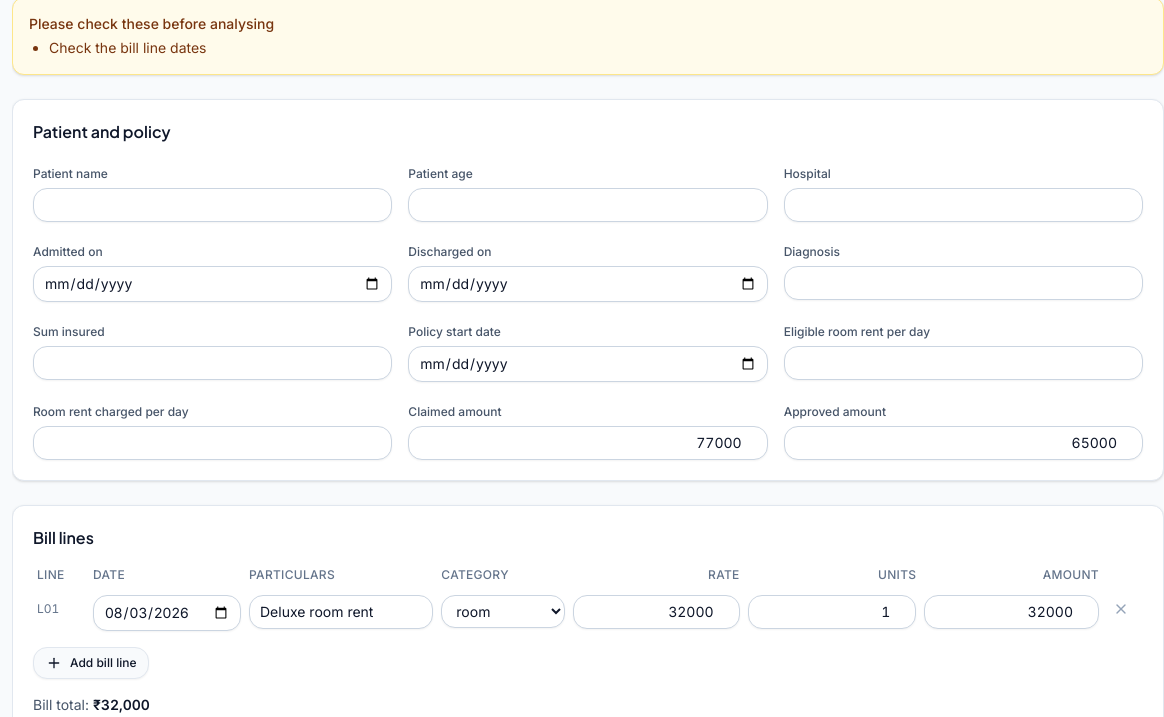
Scenario: CaseConfirmForm › recomputes the totals when an amount is edited
Check: the text with test id "bill-total" reads "₹32,000", box [93,696,150,713]
Replace the text in the number field named "Line 1 amount" with "45000.5". click: (1012, 612)
box: [924,595,1099,629]
(page scrolled)
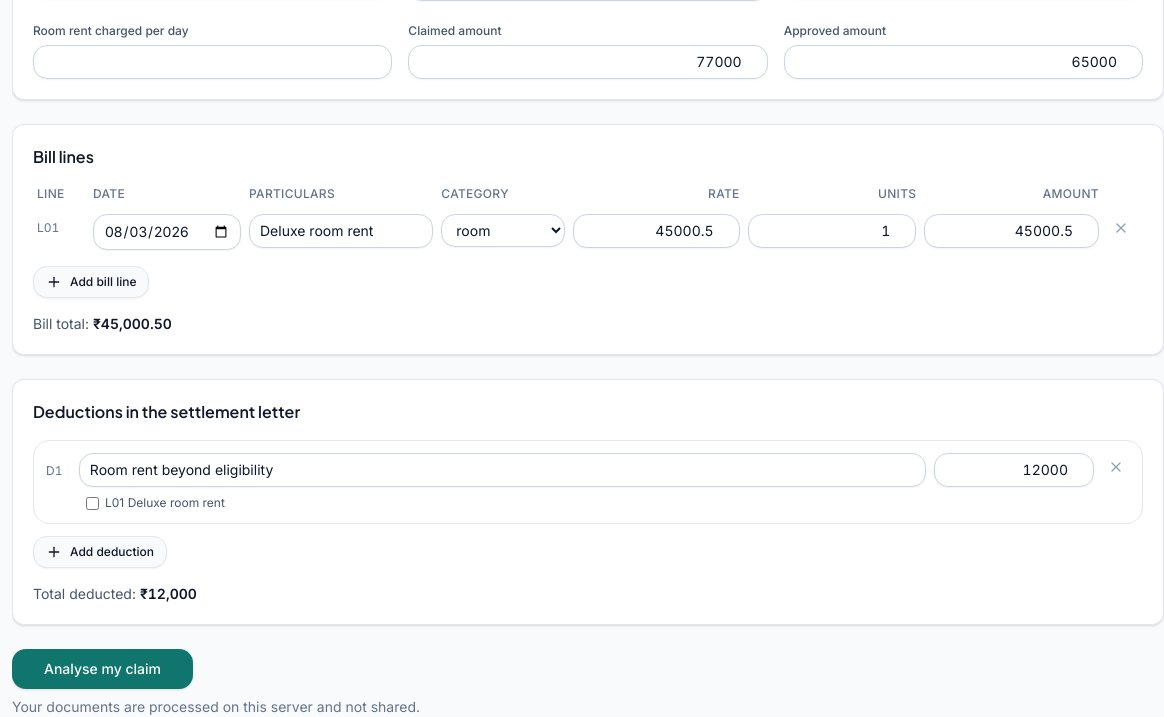
Check: the text with test id "bill-total" reads "₹45,000.50", box [93,315,172,332]
Replace the text in the number field named "Deduction 1 amount" with "20000". click: (1014, 470)
box: [934,453,1094,487]
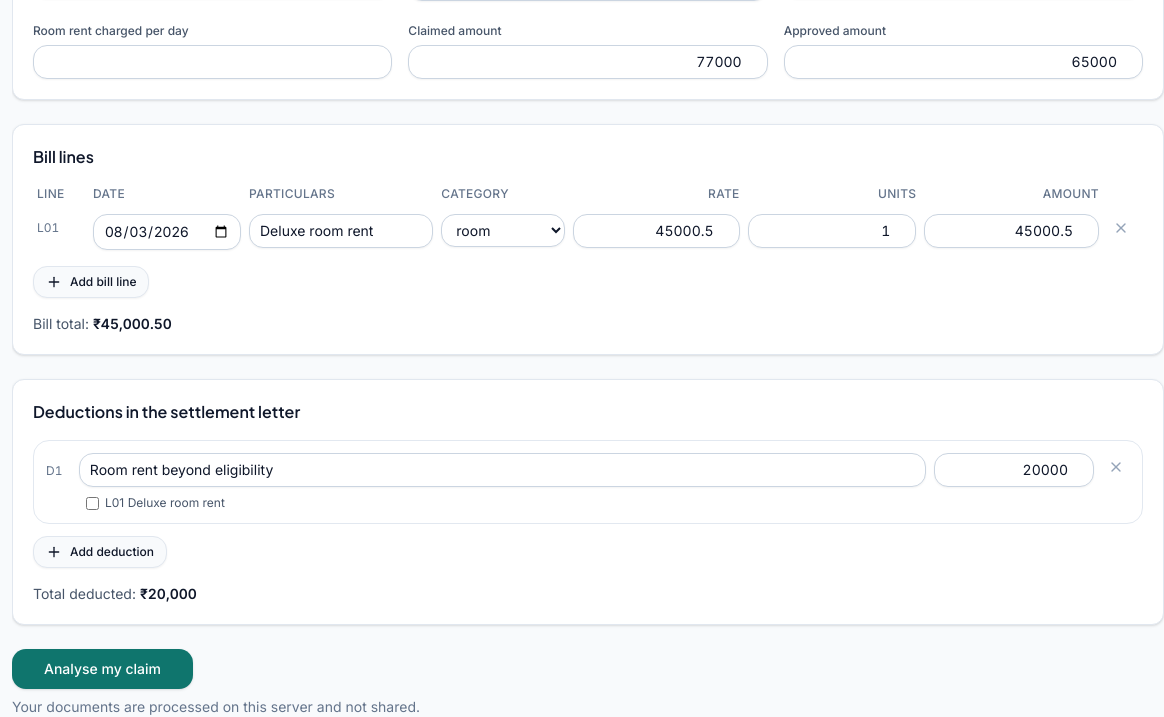
Check: the text with test id "deducted-total" reads "₹20,000", box [140,585,197,602]
